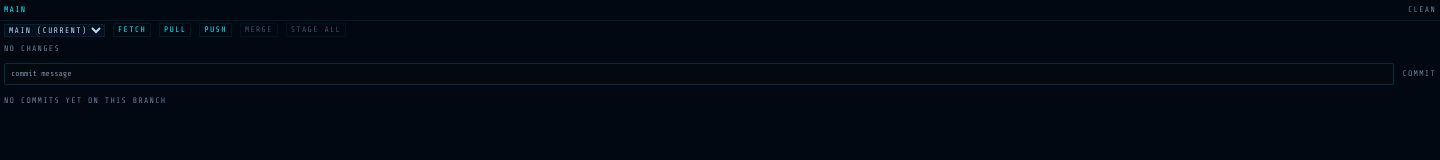
Scenario: GitPanel › does not offer a merge for a pull that never had an upstream
What coordinates should you click on to do the following:
click the button "Pull"
I would click on:
 (175, 30)
Its box is 159,23 -> 191,37.
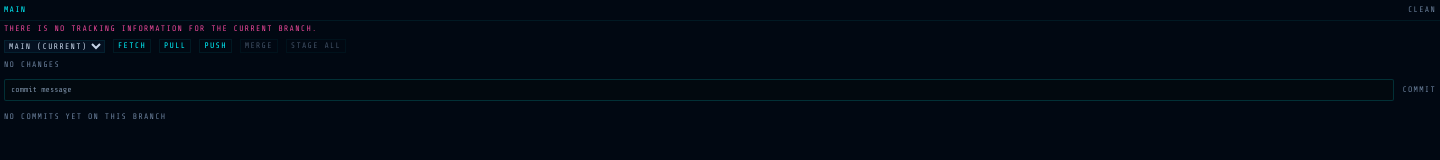
Result: the message "There is no tracking information for the current branch." is shown at 4,24 -> 318,33
